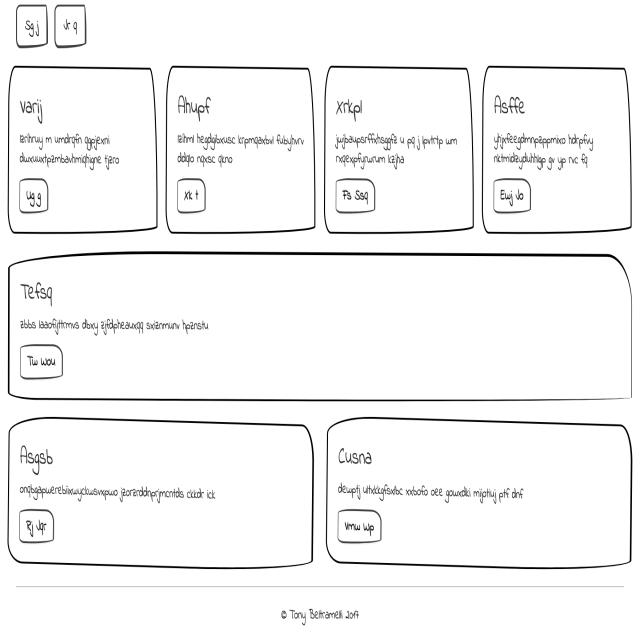Button: (14, 340, 72, 384), (331, 174, 384, 218), (168, 166, 216, 214), (15, 504, 64, 546), (489, 175, 535, 217), (338, 512, 385, 550), (15, 175, 55, 216)
Card: (2, 250, 640, 404), (4, 418, 313, 568), (482, 39, 633, 233), (326, 56, 473, 234), (166, 62, 316, 236), (7, 64, 156, 232)
Footer: (4, 577, 640, 640)
Heading 6: (173, 85, 222, 127), (15, 81, 56, 131), (17, 268, 65, 310), (329, 85, 375, 124), (16, 435, 58, 476), (489, 87, 534, 123), (335, 435, 380, 469)
Navigation Bar: (11, 0, 93, 58)
Paragraph: (13, 312, 221, 341), (337, 477, 544, 506), (332, 129, 467, 171), (170, 129, 307, 166), (490, 126, 595, 174), (15, 129, 124, 173), (18, 482, 224, 504)
